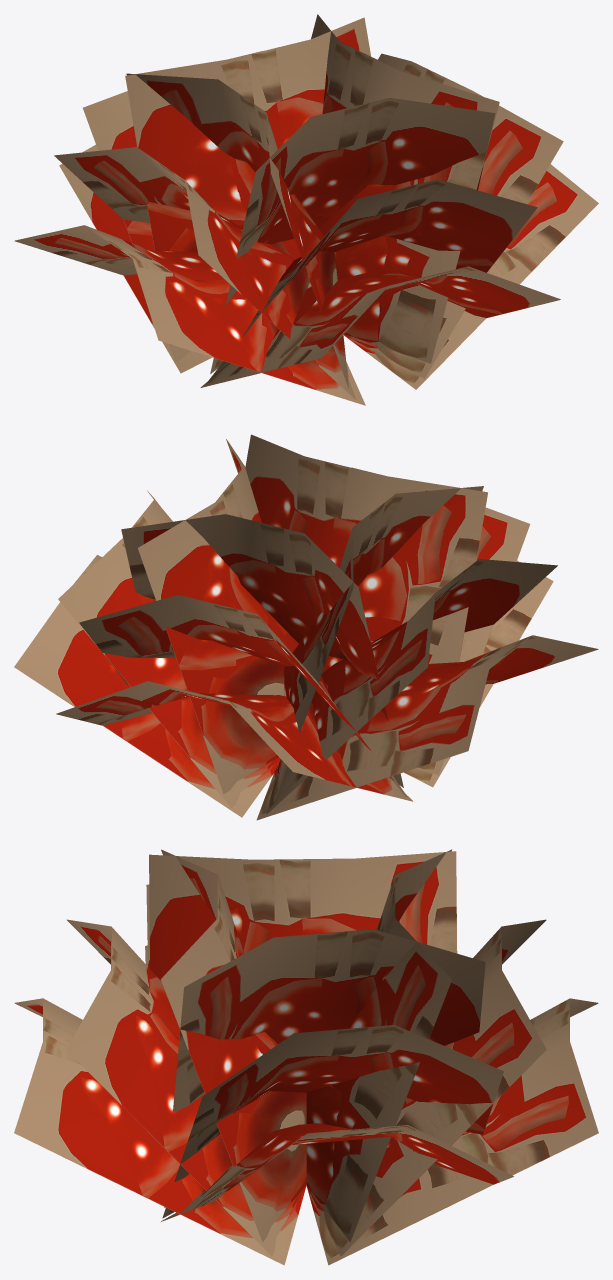
File: Plant_013.fbx
3 renders of one model, top to bottom at view 1: azimuth 30°, elevation 25°; view 2: azimuth 150°, elevation 25°; view 3: azimuth 270°, elevation 25°, orthographic. The views are drawn at different scales.
Parts seen in each view (by area): view 1: Plant_013; view 2: Plant_013; view 3: Plant_013.
Part boxes in pixels (left/top/right/bottom): Plant_013: left=14, top=14, right=598, bottom=405; Plant_013: left=14, top=434, right=598, bottom=820; Plant_013: left=14, top=849, right=598, bottom=1265.
Size of the model in its own units: 602 by 329 by 575.
